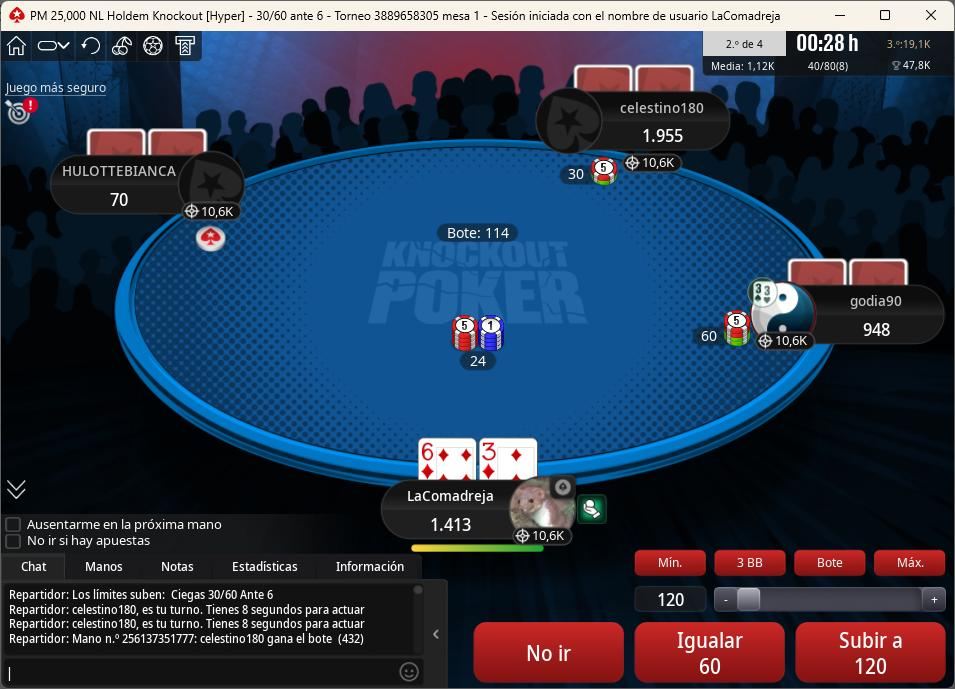ButtonCall: (629, 617, 785, 685)
ButtonFold: (471, 621, 627, 685)
ButtonMinRaise: (634, 549, 711, 580)
ButtonRaise: (792, 618, 949, 686)
Dealer: (191, 223, 237, 256)
HiddenCards: (84, 133, 220, 161), (575, 68, 705, 96), (784, 259, 912, 286)
Player: (747, 282, 950, 351), (539, 93, 731, 158), (48, 156, 248, 218)
PlayerBet: (549, 154, 626, 196), (689, 307, 758, 352)
PlayerChips: (859, 322, 902, 343), (100, 192, 137, 210)
Pot: (434, 224, 523, 245)
PrincipalCards: (416, 438, 545, 484)
PrincipalCards1: (417, 437, 479, 483)
PrincipalCards2: (479, 438, 539, 483)
PrincipalPlayer: (381, 477, 586, 552)
PrincipalPlayerChips: (423, 517, 485, 537)
SmallBigBlind: (248, 3, 332, 27)
TablePot: (433, 314, 534, 381)
